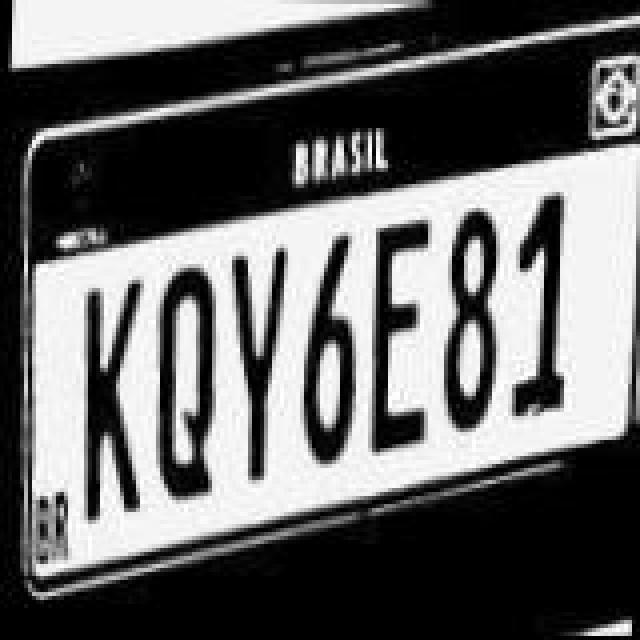1: (504, 182, 576, 418)
6: (294, 230, 358, 470)
8: (440, 206, 504, 434)
E: (366, 210, 434, 462)
K: (78, 272, 150, 528)
Q: (150, 256, 222, 500)
Y: (222, 242, 286, 486)
